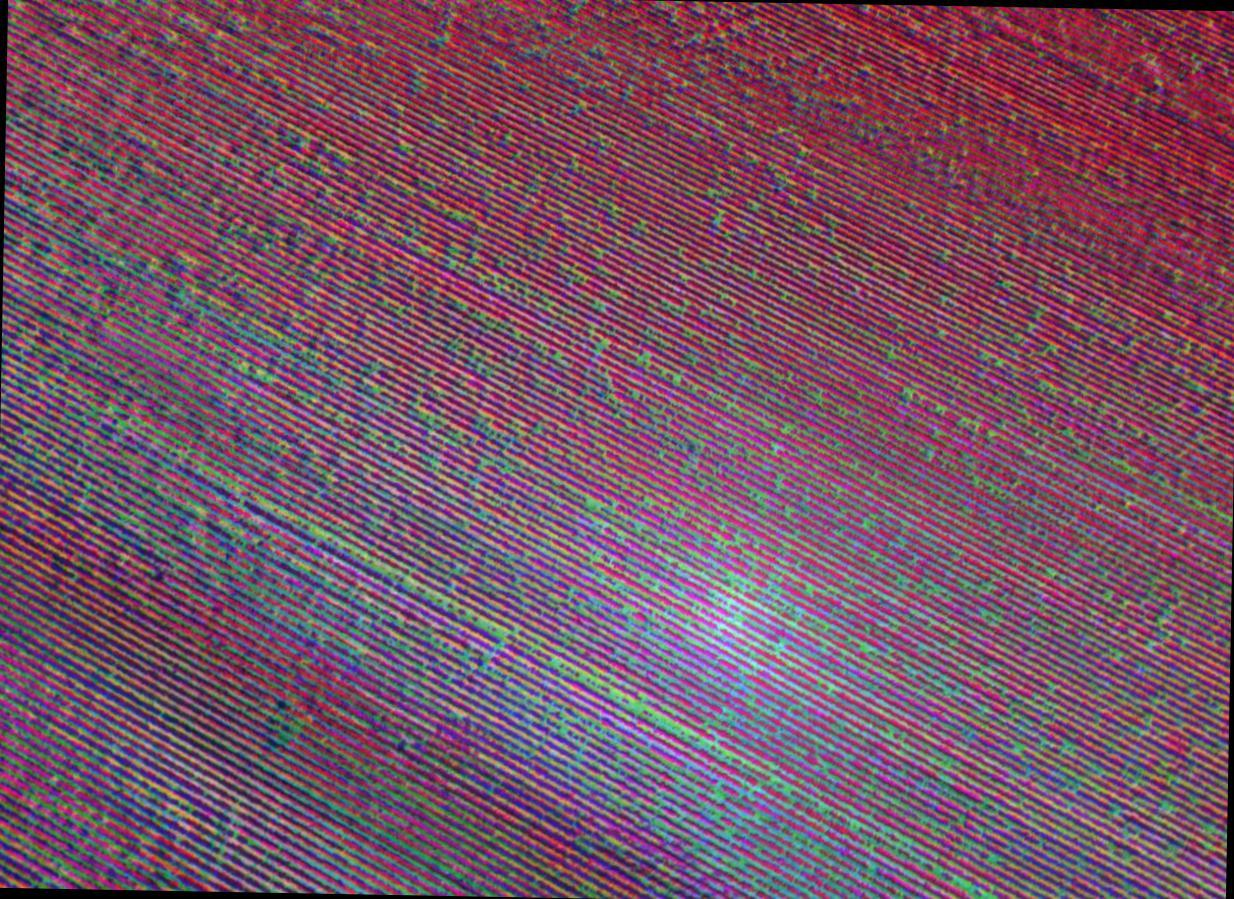dc: (181, 510, 301, 649), (41, 423, 161, 552), (518, 685, 637, 808), (678, 738, 791, 865), (338, 575, 447, 690), (691, 535, 795, 641)
